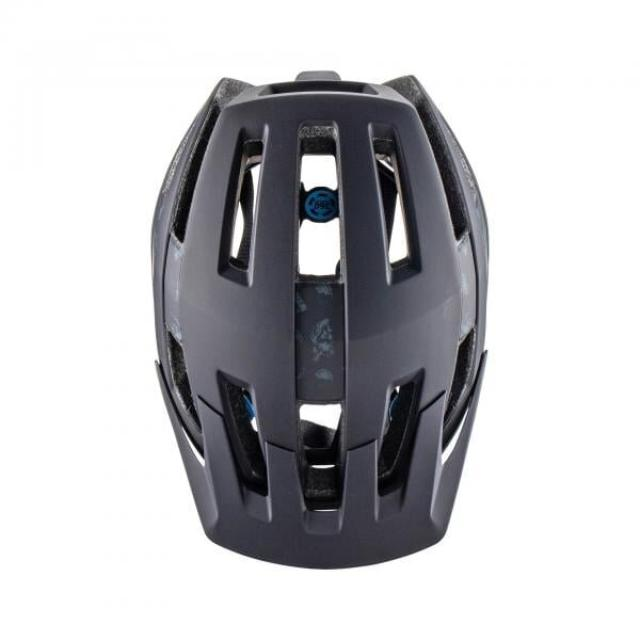illegal_helmet: (142, 62, 497, 578)
